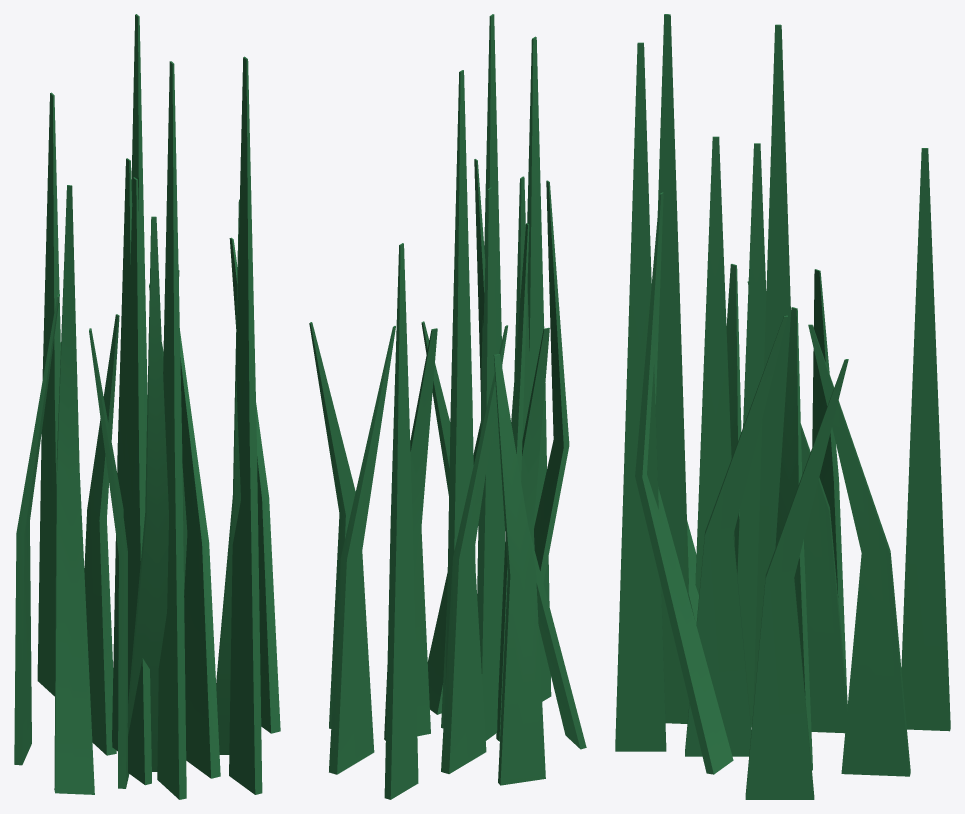
The model's file is Erva_02.fbx.
3 renders of one model, left to right at view 1: azimuth 30°, elevation 25°; view 2: azimuth 150°, elevation 25°; view 3: azimuth 270°, elevation 25°, orthographic. The views are drawn at different scales.
Parts seen in each view (by area): view 1: pCube8, pCube13, pCube14, pCube7, pCube9, pCube11, pCube12, pCube15, pCube16, pCube19, pCube10, pCube17 (+2 smaller); view 2: pCube16, pCube12, pCube22, pCube15, pCube17, pCube21, pCube14, pCube20, pCube7, pCube13, pCube10, pCube19 (+4 smaller); view 3: pCube8, pCube12, pCube22, pCube19, pCube14, pCube9, pCube18, pCube21, pCube11, pCube17, pCube15, pCube20 (+3 smaller).
Boxes of the visible parts, bbox=[...] form: pCube8: bbox=[229, 56, 262, 794]; pCube13: bbox=[54, 185, 94, 794]; pCube14: bbox=[157, 61, 186, 799]; pCube7: bbox=[127, 216, 168, 771]; pCube9: bbox=[180, 331, 220, 778]; pCube11: bbox=[123, 177, 151, 785]; pCube12: bbox=[37, 92, 60, 696]; pCube15: bbox=[84, 314, 119, 755]; pCube16: bbox=[14, 294, 59, 765]; pCube19: bbox=[229, 237, 280, 733]; pCube10: bbox=[89, 328, 129, 788]; pCube17: bbox=[112, 158, 132, 751]; pCube16: bbox=[493, 354, 545, 785]; pCube12: bbox=[384, 243, 418, 799]; pCube22: bbox=[329, 326, 395, 774]; pCube15: bbox=[441, 325, 507, 773]; pCube17: bbox=[477, 187, 502, 740]; pCube21: bbox=[445, 70, 475, 684]; pCube14: bbox=[527, 36, 551, 701]; pCube20: bbox=[384, 328, 437, 740]; pCube7: bbox=[534, 180, 569, 582]; pCube13: bbox=[511, 223, 586, 749]; pCube10: bbox=[496, 327, 549, 741]; pCube19: bbox=[309, 322, 355, 728]; pCube8: bbox=[615, 42, 666, 751]; pCube12: bbox=[901, 148, 950, 731]; pCube22: bbox=[808, 324, 910, 776]; pCube19: bbox=[745, 359, 848, 799]; pCube14: bbox=[655, 14, 689, 723]; pCube9: bbox=[685, 315, 787, 756]; pCube18: bbox=[635, 192, 733, 774]; pCube21: bbox=[753, 24, 790, 708]; pCube11: bbox=[695, 136, 734, 595]; pCube17: bbox=[737, 143, 766, 725]; pCube15: bbox=[747, 281, 847, 733]; pCube20: bbox=[775, 307, 812, 770].
Bounding box in the file's own units: 0.2079 × 0.6088 × 0.259.
